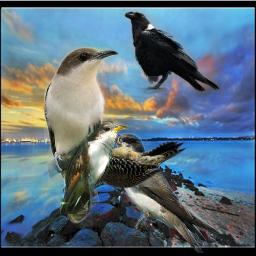Crow: (124, 7, 221, 95)
Cuckoo: (44, 47, 119, 224), (60, 121, 127, 214)
Swallow: (113, 133, 222, 253)
Woodpecker: (72, 122, 192, 190)
